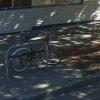Bicycle: (7, 33, 79, 84)
